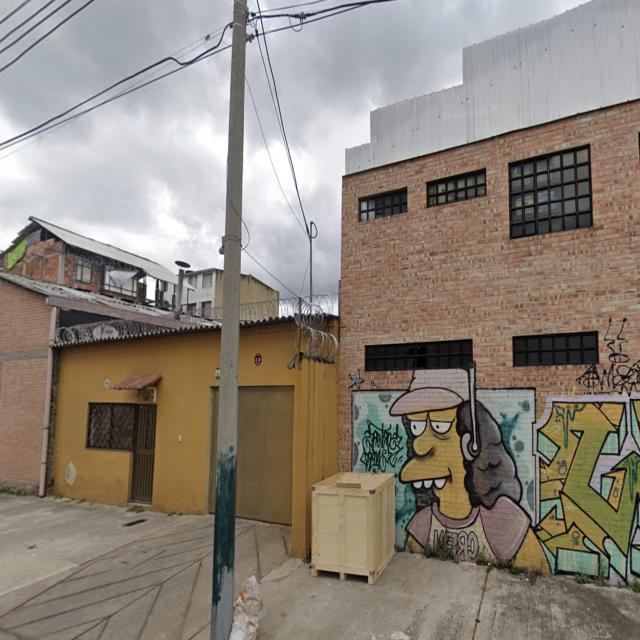Fachada: (339, 100, 640, 580), (52, 324, 224, 514), (236, 305, 339, 557)
Poste: (211, 0, 247, 640)
